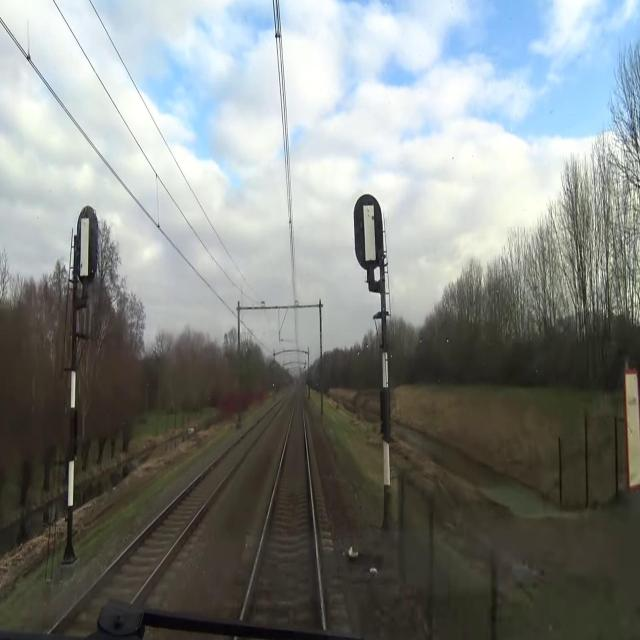rail-track: (244, 392, 321, 629)
